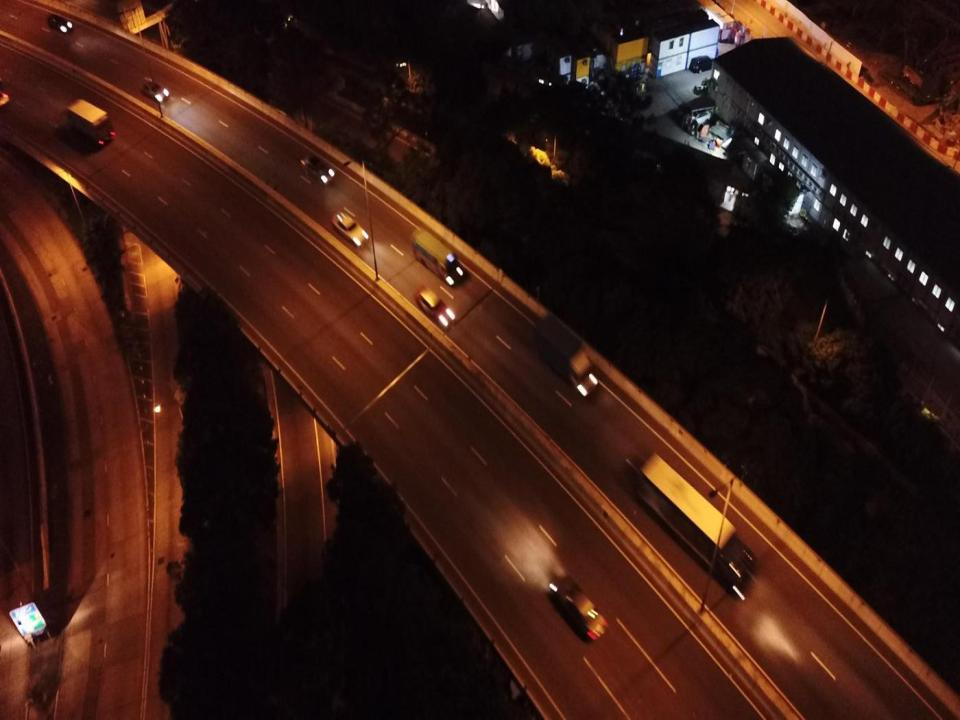bus: (412, 227, 464, 284)
car: (548, 575, 606, 641), (413, 285, 456, 330), (332, 210, 369, 245), (301, 157, 334, 183), (141, 76, 169, 100), (47, 15, 72, 33)
truck: (639, 451, 754, 594), (534, 312, 597, 398), (66, 97, 113, 142)
van: (684, 109, 711, 126), (691, 56, 717, 72)
